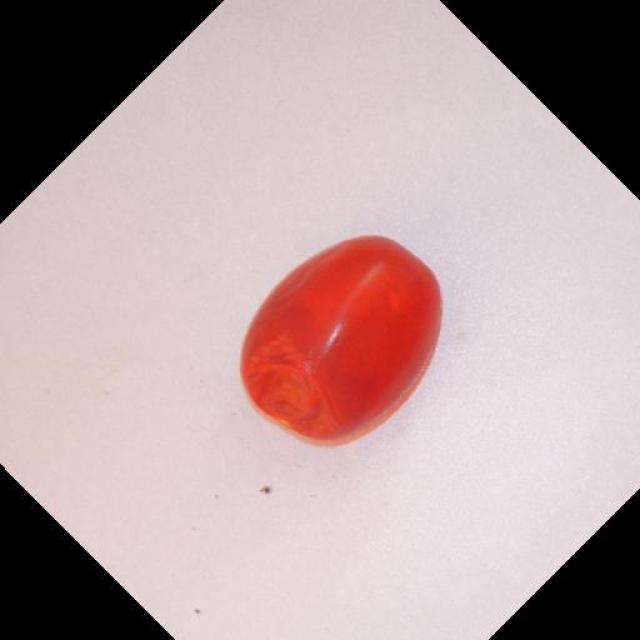Stale_tomato: (253, 230, 415, 458)
